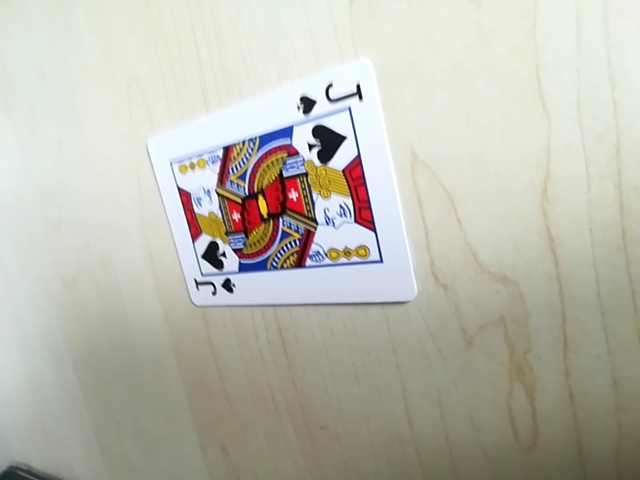ht j: (290, 75, 369, 120), (188, 270, 241, 304)
